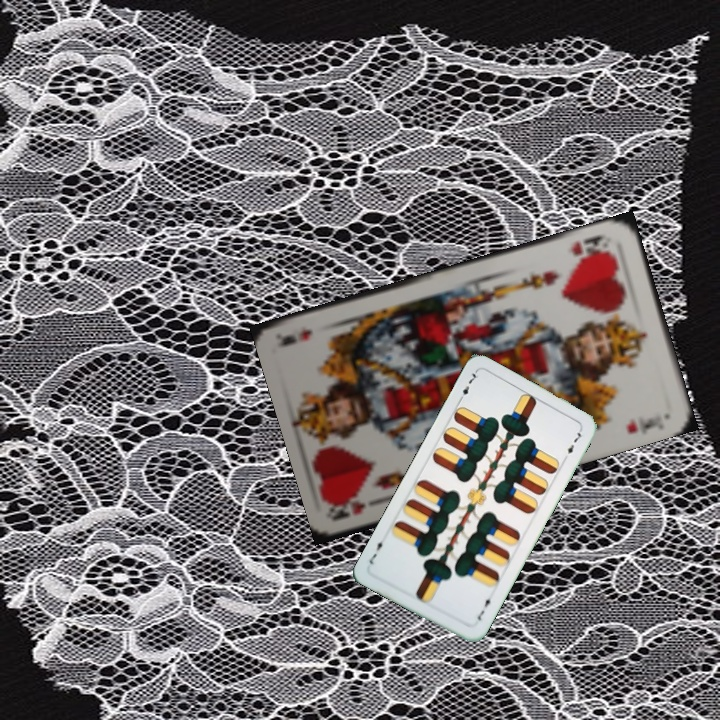E7: (454, 367, 481, 405), (473, 592, 496, 624)
HK: (330, 494, 390, 523), (566, 230, 613, 262)
